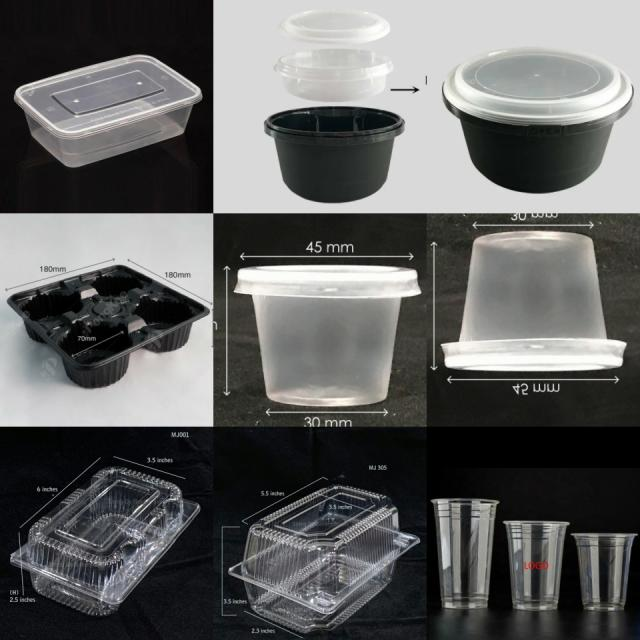Single-Use-Plastic: (11, 466, 200, 616), (229, 485, 420, 633), (442, 48, 634, 193), (235, 265, 421, 406), (441, 231, 626, 371), (8, 265, 209, 388), (15, 55, 201, 167), (264, 106, 404, 202), (270, 8, 394, 102), (431, 499, 499, 609), (504, 521, 569, 610), (572, 534, 636, 611)
